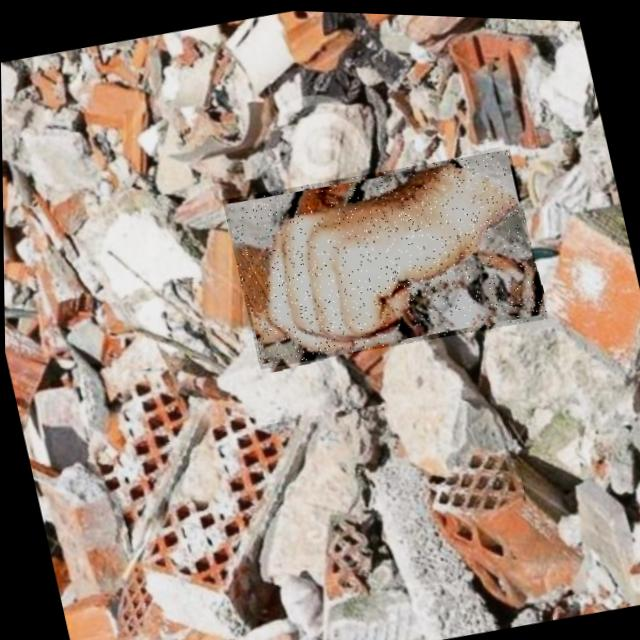Person in Rubble: (220, 135, 547, 374)
